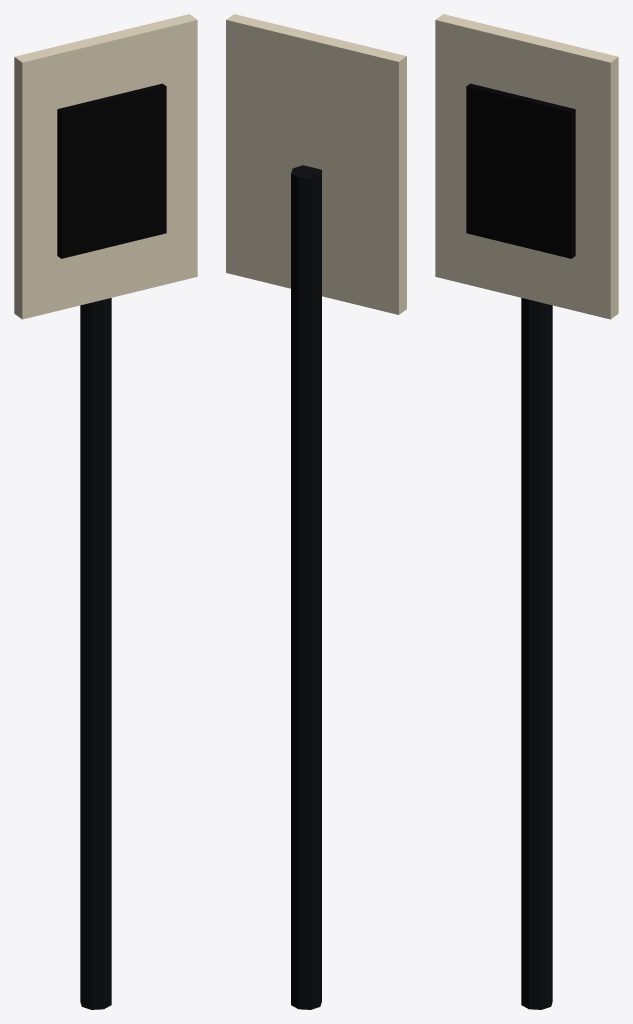
File: speed_limit_sign.obj
3 views of the same model, side by side, from view 1: azimuth 30°, elevation 25°; view 2: azimuth 150°, elevation 25°; view 3: azimuth 330°, elevation 25° (orthographic).
Visible parts, largest first — view 1: speed_limit_sign; view 2: speed_limit_sign; view 3: speed_limit_sign.
Part boxes in pixels (x1,y1,x2,y2): speed_limit_sign: (14, 14, 197, 1009); speed_limit_sign: (226, 14, 406, 1009); speed_limit_sign: (435, 14, 618, 1009).
Size of the model in its own units: 0.5 by 2.65 by 0.13.
